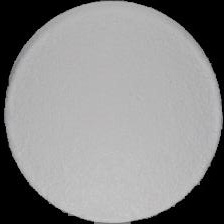23155-105: (0, 0, 224, 224)
